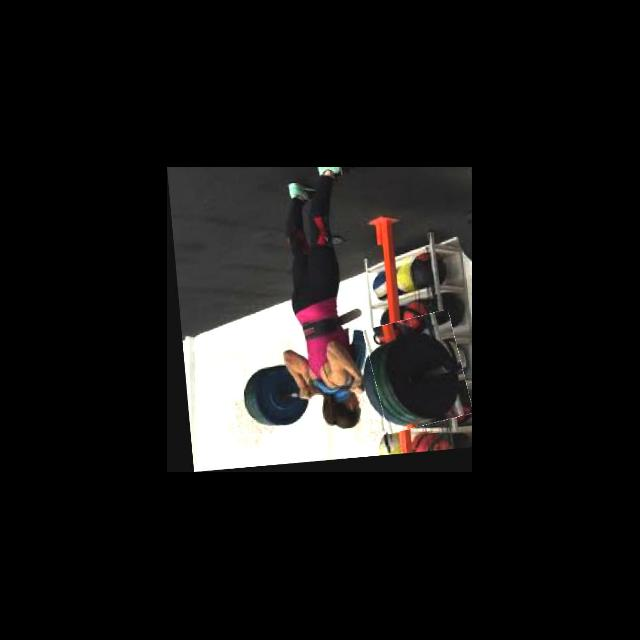barbell: (363, 317, 465, 435)
